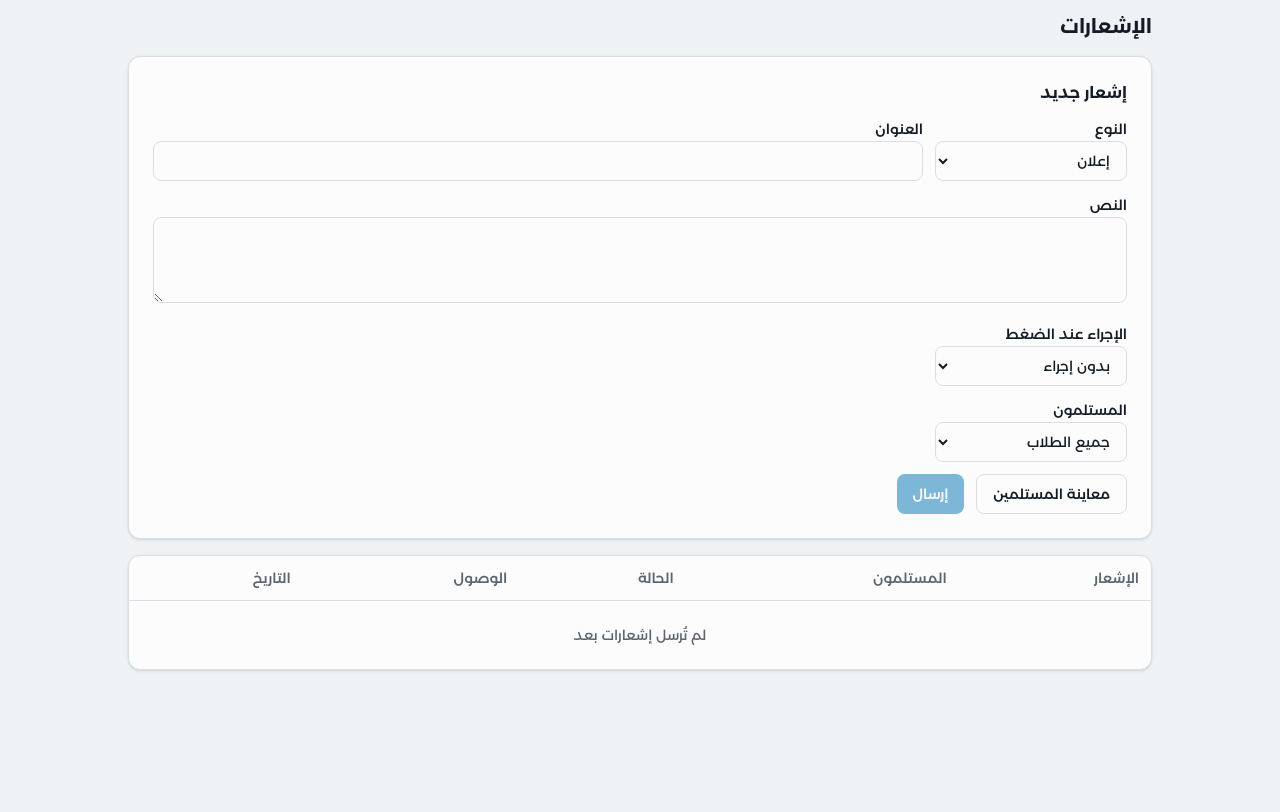
Test: notifications (§20.2) › does not send when the target reaches nobody
Expected: the text "لم تُرسل إشعارات بعد" is shown, [129,600,1151,669]
Type "تنبيه" into the field labelled "العنوان" at (538, 161), box [153,141,923,181]
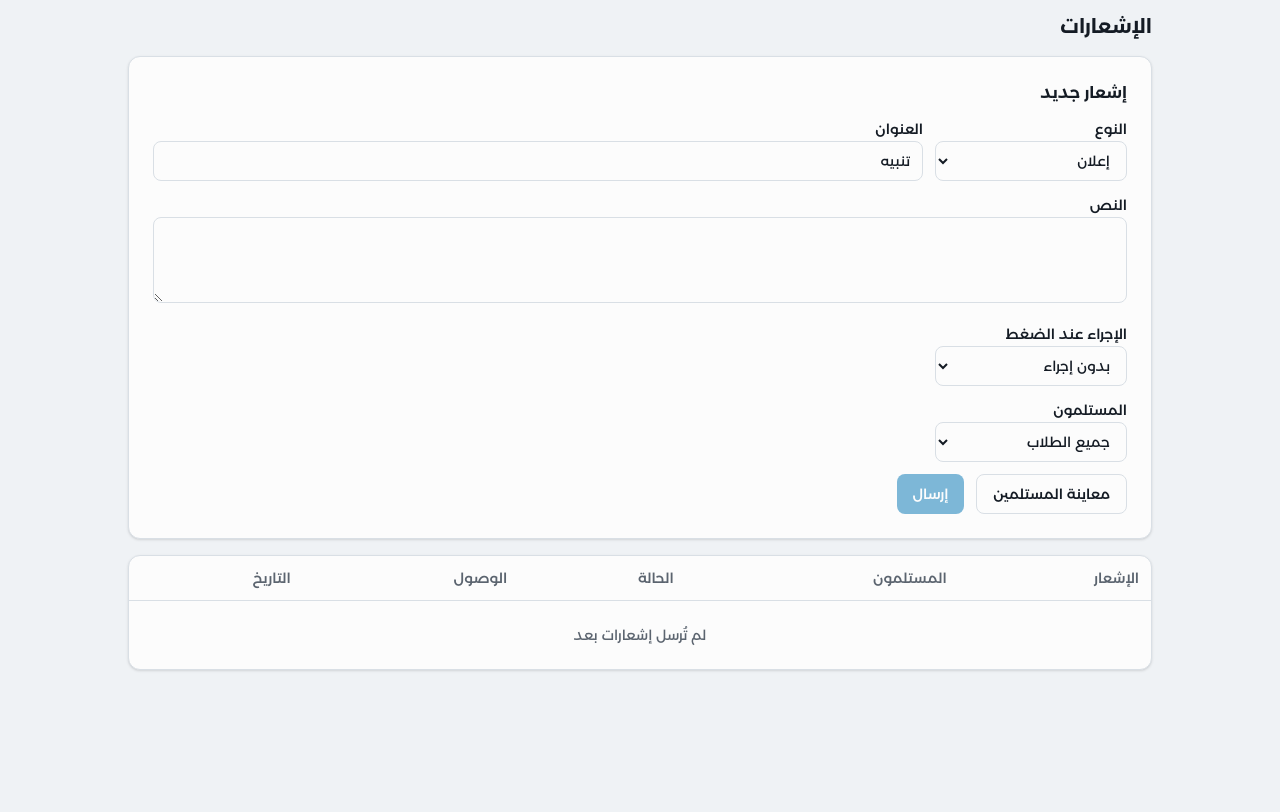
Type "نص" into the text box labelled "النص" at (640, 260), box [153,217,1127,303]
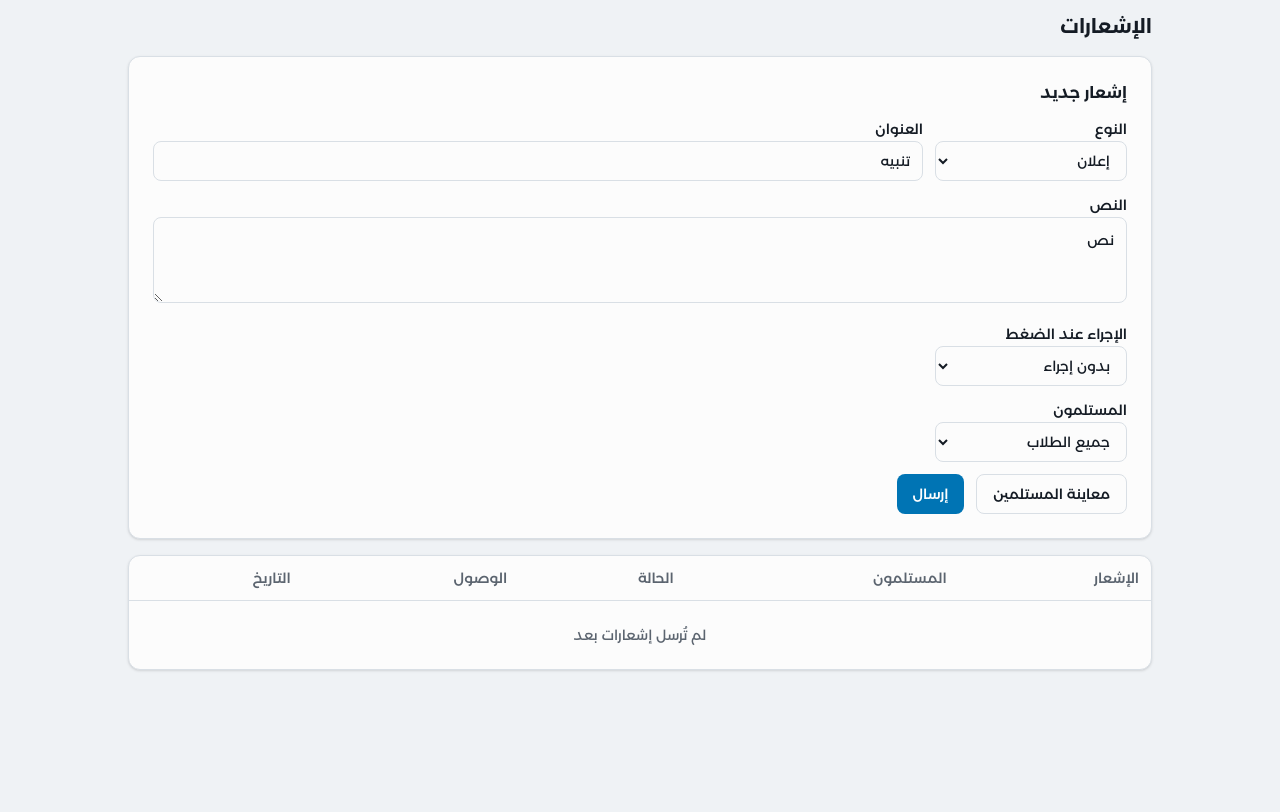
Click the button "معاينة المستلمين" at (1052, 494), box [976,474,1127,514]
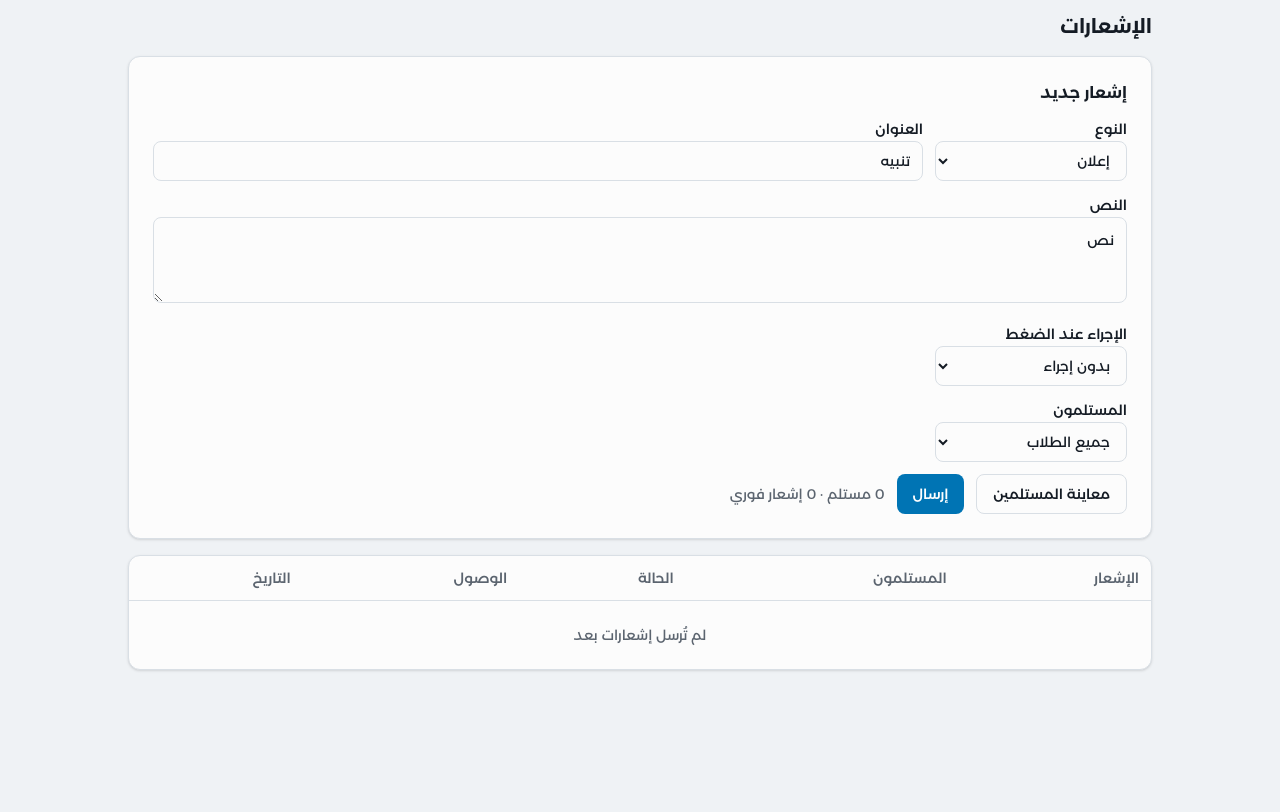
Now the text "0 مستلم · 0 إشعار فوري" is shown, box [730,484,884,504]
Click the button "إرسال" at (930, 494), box [896,474,964,514]
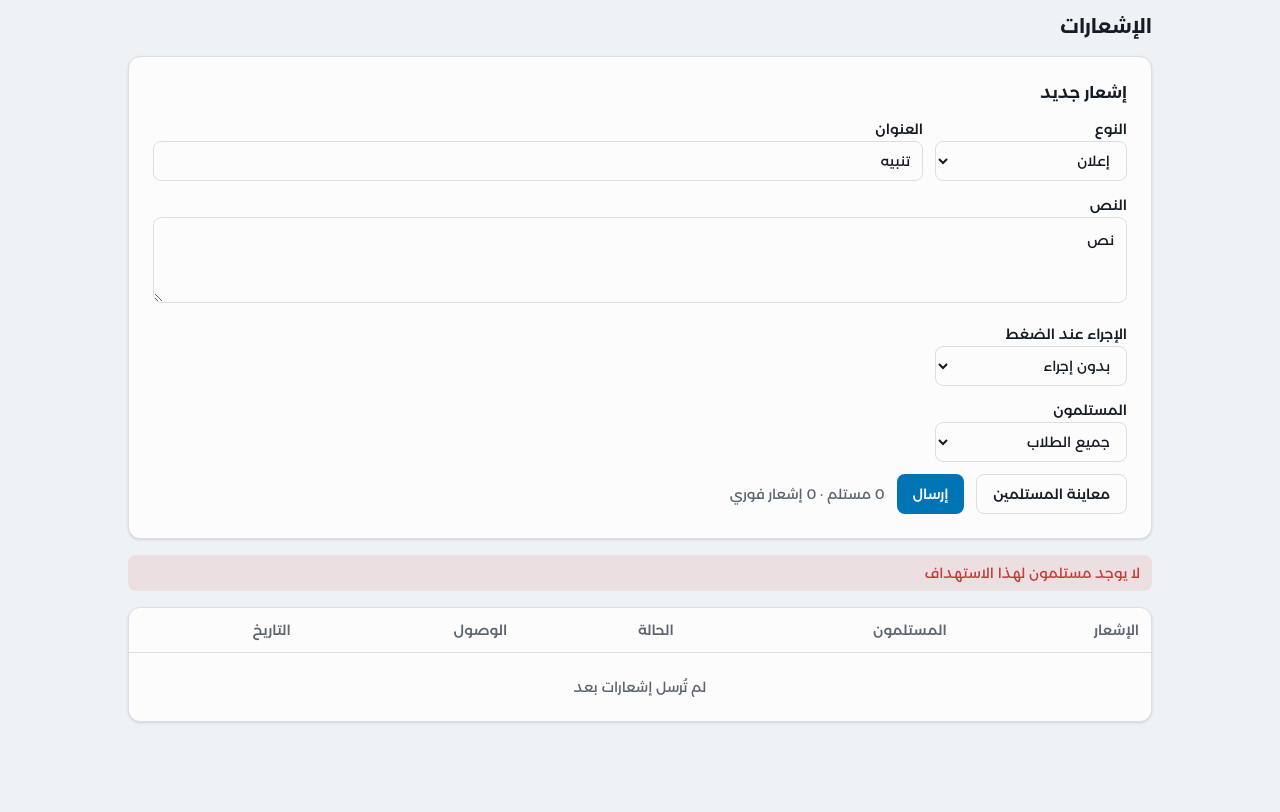
Now the text "لا يوجد مستلمون لهذا الاستهداف" is shown, box [128,555,1152,591]
